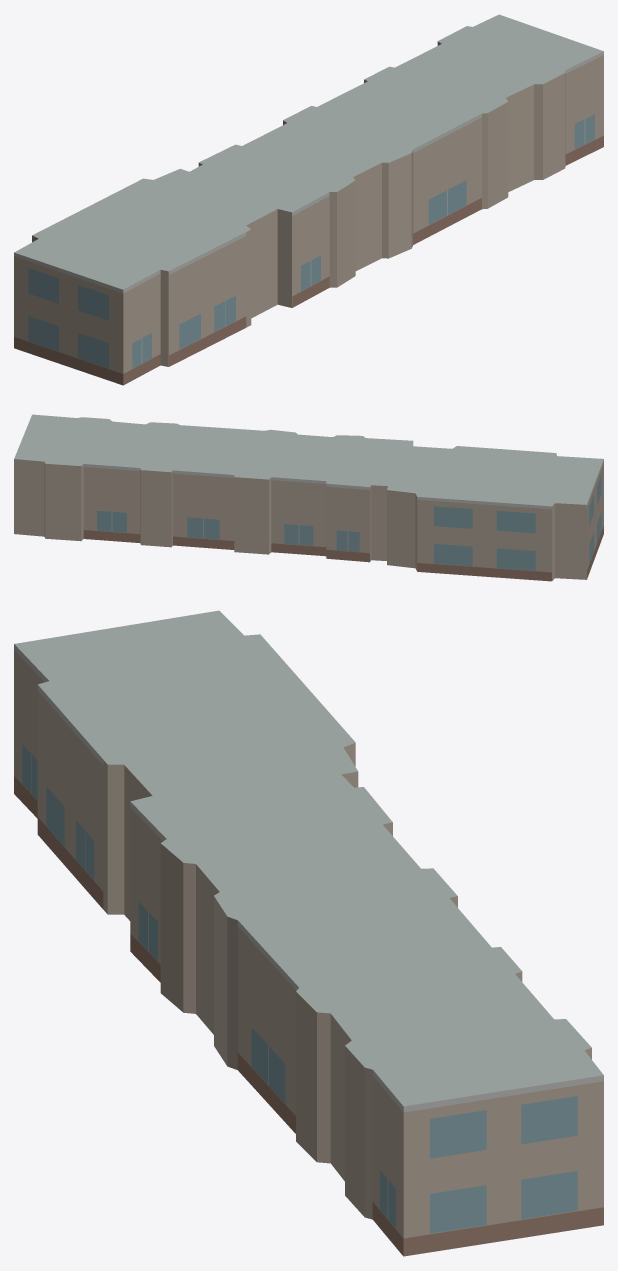
Rendered from survey-upis-32871599.glb.
3 renders of one model, top to bottom at view 1: azimuth 30°, elevation 25°; view 2: azimuth 150°, elevation 25°; view 3: azimuth 270°, elevation 25°, orthographic. The views are drawn at different scales.
Parts seen in each view (by area): view 1: survey-upis-32871599.tmp; view 2: survey-upis-32871599.tmp; view 3: survey-upis-32871599.tmp.
Boxes of the visible parts, x1,y1,x2,y2 form: survey-upis-32871599.tmp: (14, 14, 603, 385); survey-upis-32871599.tmp: (14, 414, 603, 581); survey-upis-32871599.tmp: (14, 610, 603, 1256).
Size of the model in its own units: 43.28 by 6.1 by 21.75.
